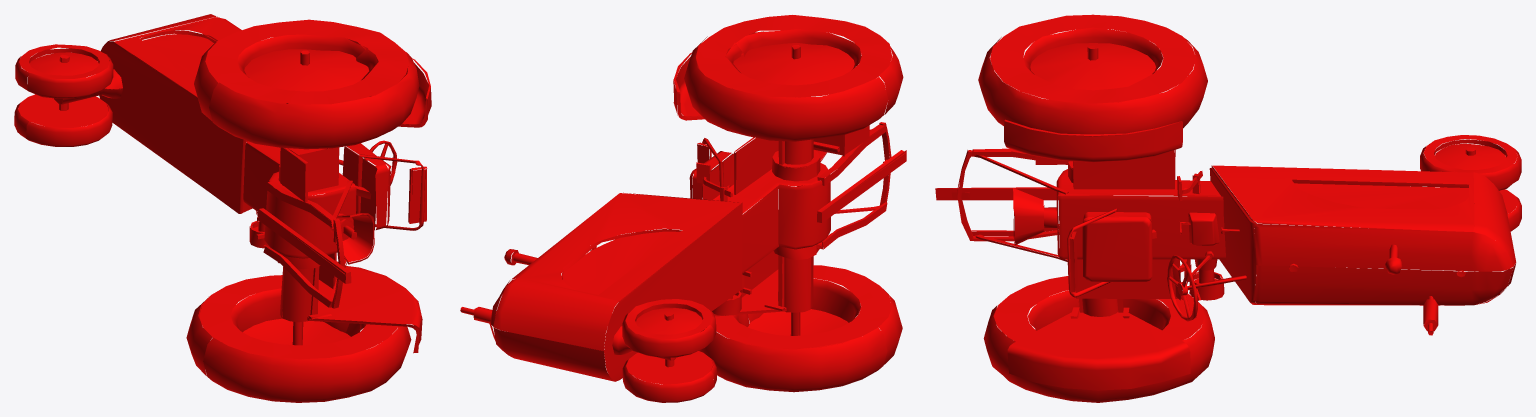
3 views of the same model, side by side, from view 1: azimuth 30°, elevation 25°; view 2: azimuth 150°, elevation 25°; view 3: azimuth 270°, elevation 25° (orthographic). The views are drawn at different scales.
Visible parts, largest first — view 1: Renderer Node; view 2: Renderer Node; view 3: Renderer Node.
Part boxes in pixels (bbox=[...]): Renderer Node: bbox=[14, 14, 431, 402]; Renderer Node: bbox=[460, 15, 906, 402]; Renderer Node: bbox=[935, 14, 1521, 402].
Size of the model in its own units: 1.04 by 1.16 by 1.88.
1 material, 1 textured.
